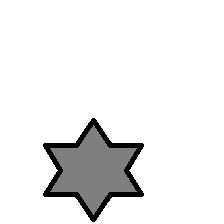star: (43, 117, 145, 223)
